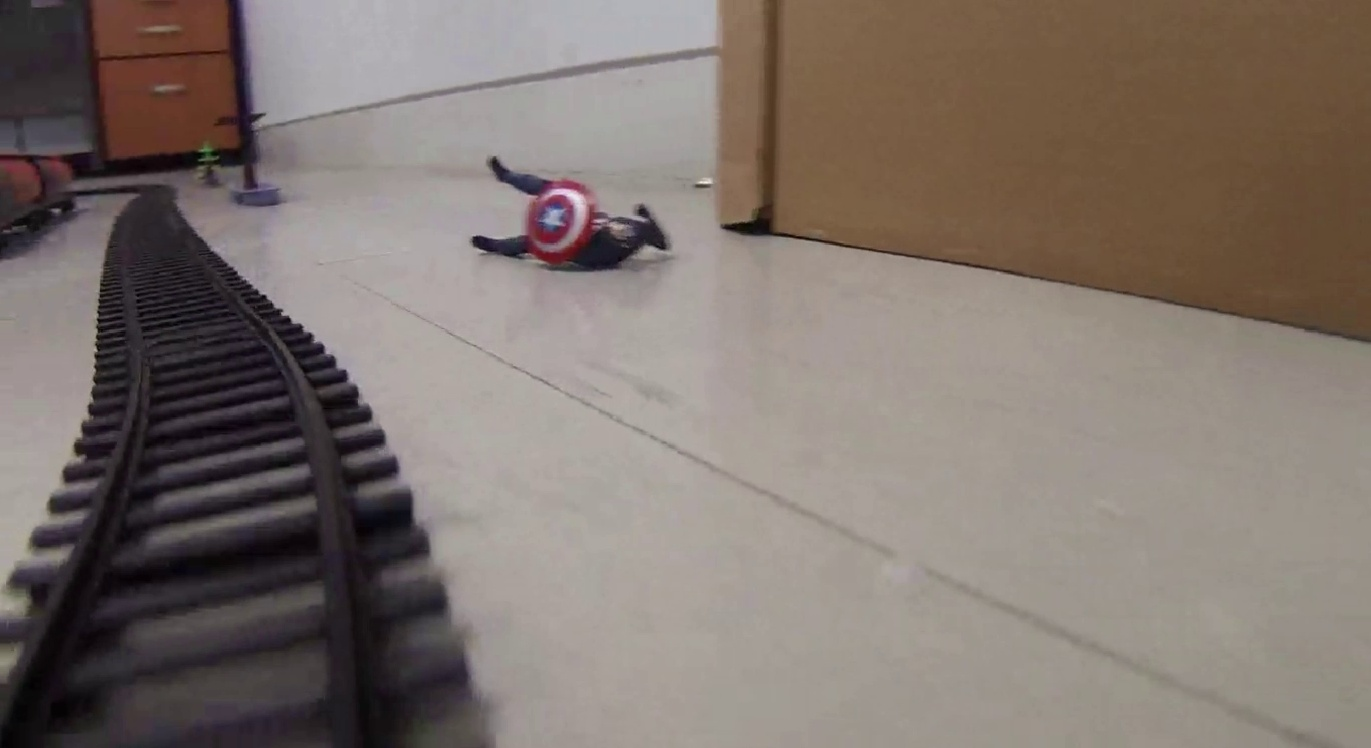people: (468, 151, 669, 274)
